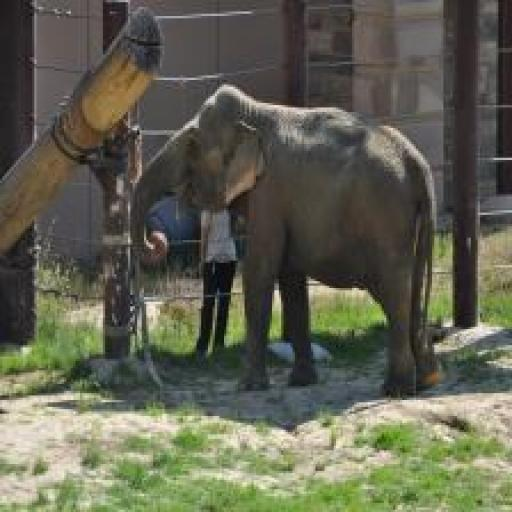Elephant: (128, 84, 441, 396)
